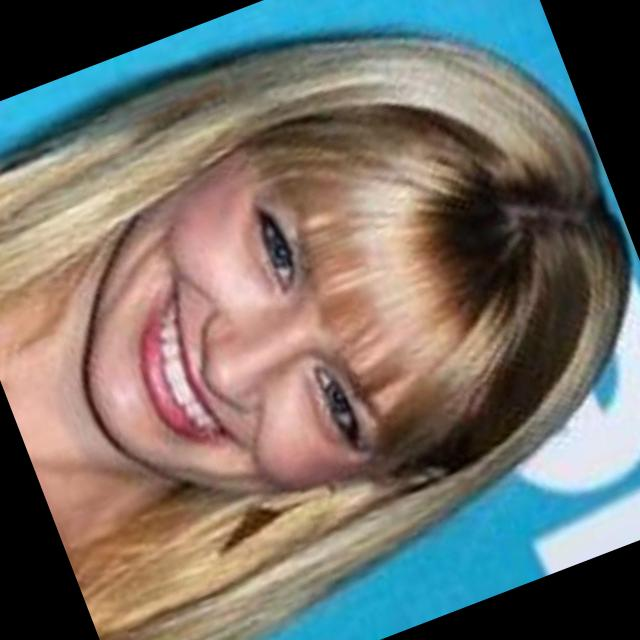bareface: (0, 0, 627, 627)
